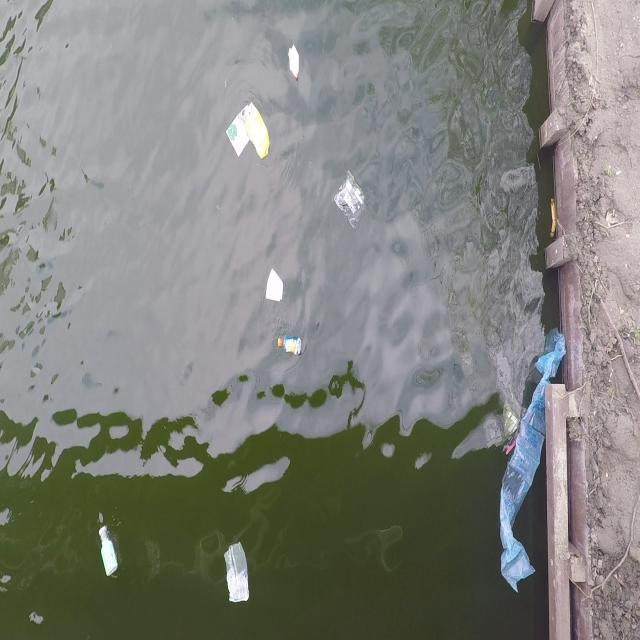Bouteille plastique: (96, 522, 120, 582), (274, 329, 307, 364)
Non plastique: (260, 264, 286, 313)
Sac plastique: (496, 350, 546, 606), (220, 534, 252, 614), (332, 167, 368, 236)
